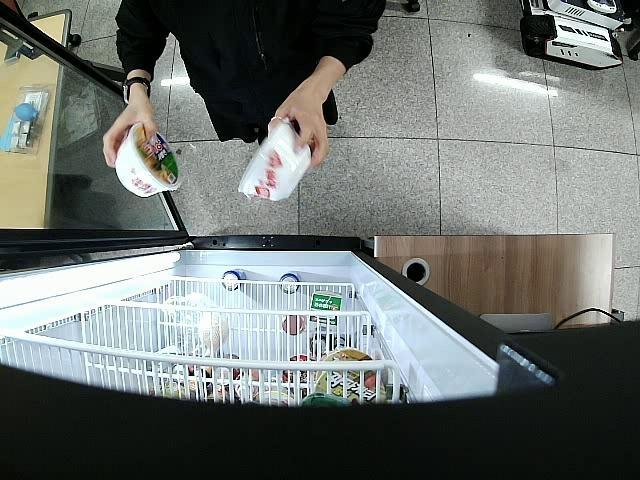09_yukGaeJang: (236, 115, 312, 200), (115, 122, 185, 198)
